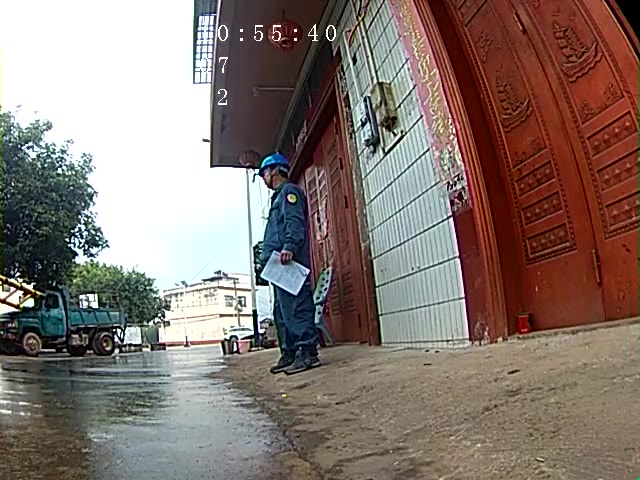downsuit: (269, 263, 319, 355)
halt: (258, 153, 291, 190)
hand: (279, 248, 294, 265)
person: (254, 153, 325, 376)
sleeve: (287, 194, 297, 204)
upsuit: (263, 182, 311, 257)
